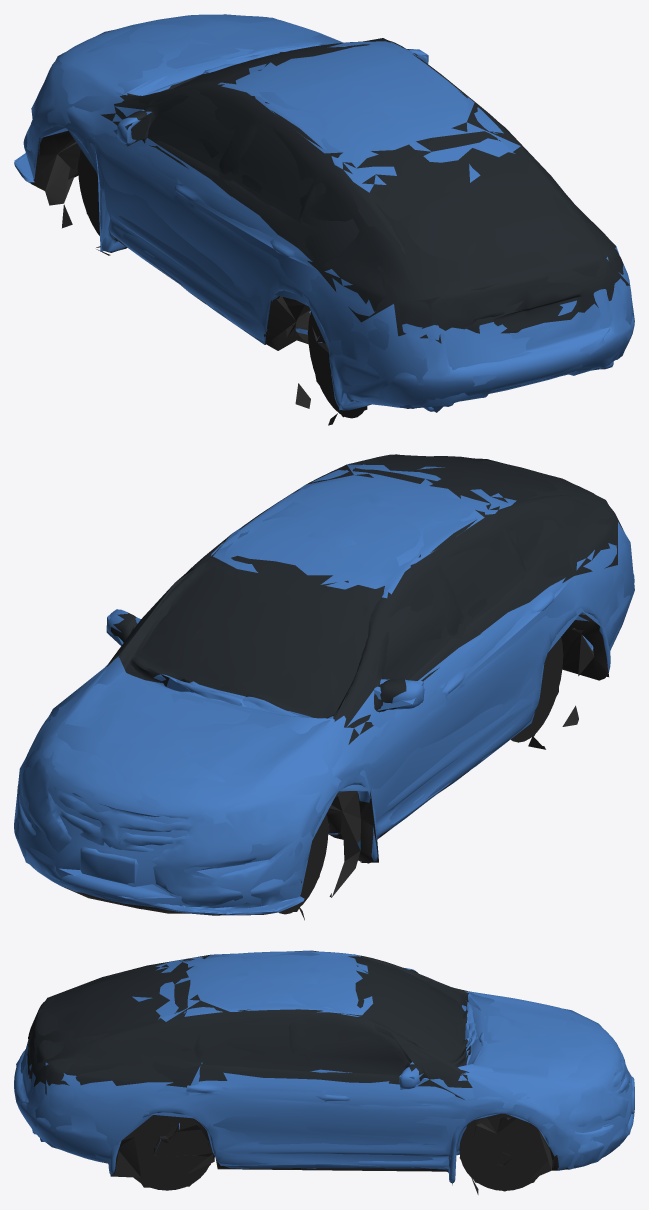
Rendered from honda-crosstour.glb.
3 views of the same model, one above another, from view 1: azimuth 30°, elevation 25°; view 2: azimuth 150°, elevation 25°; view 3: azimuth 270°, elevation 25° (orthographic). The views are drawn at different scales.
Visible parts, largest first — view 1: body, far; view 2: body, far; view 3: body, far.
Part boxes in pixels (x1,y1,x2,y2): body: (14,14,634,425); far: (14,14,634,423); body: (14,454,634,920); far: (14,454,634,912); body: (14,951,634,1191); far: (16,950,632,1194).
Size of the model in its own units: 2.1 by 1.63 by 5.03.
